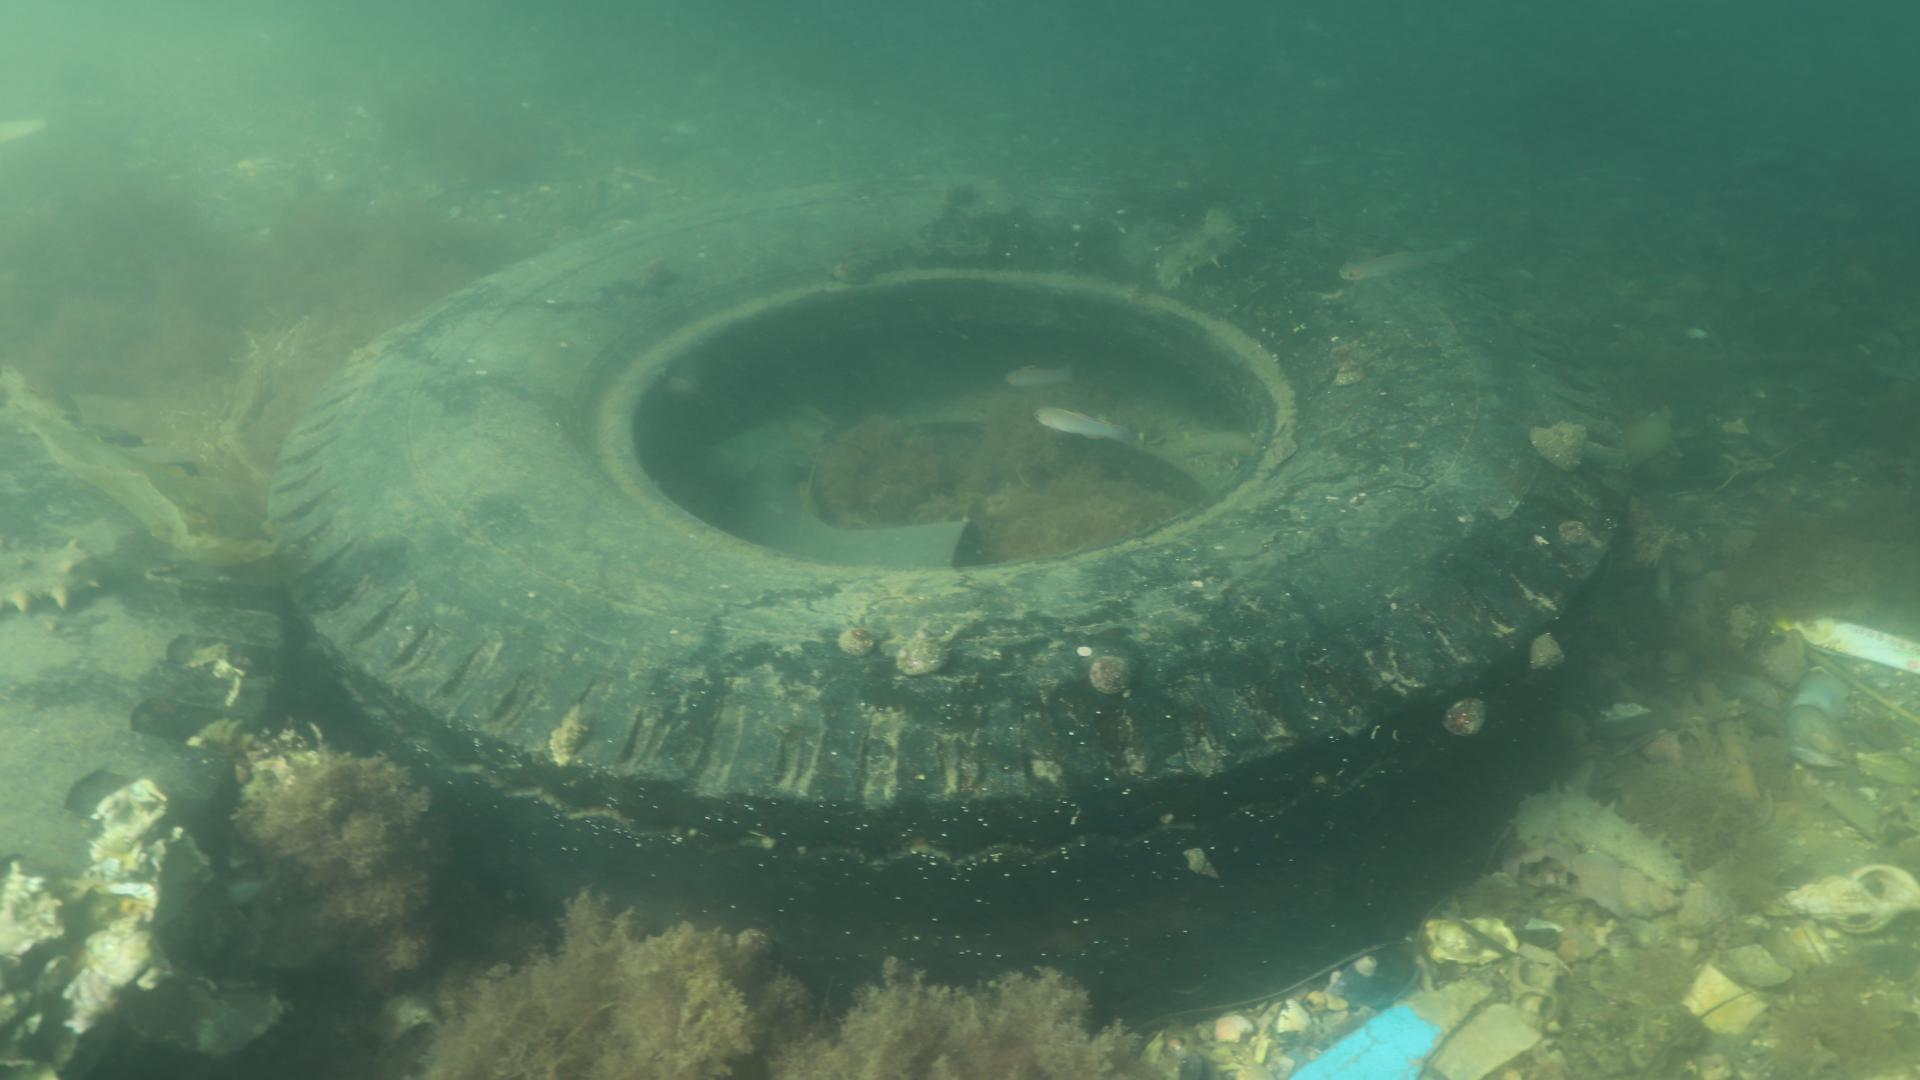tire: (266, 170, 1629, 1029)
